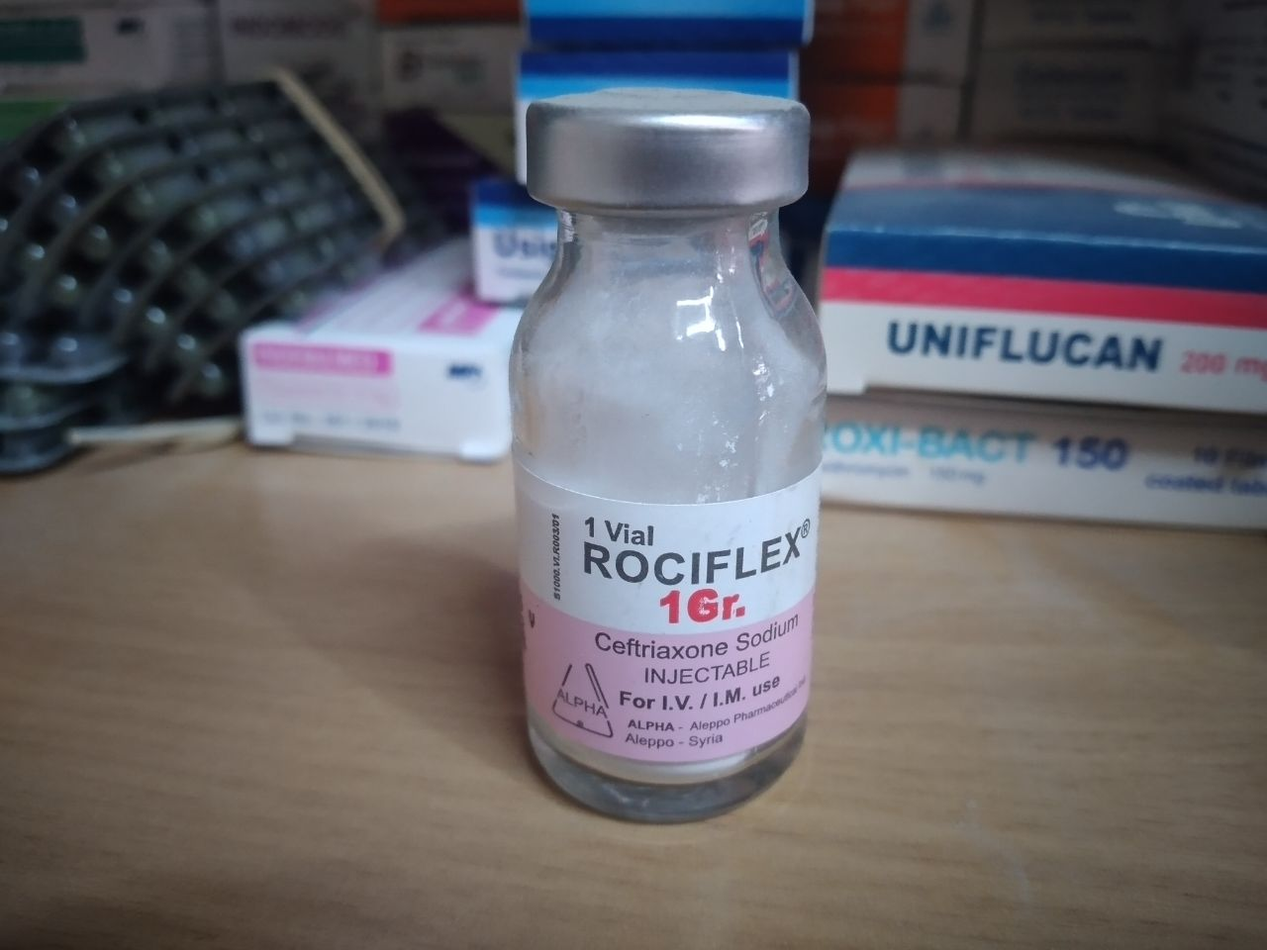Medicine: (490, 72, 844, 839), (819, 344, 1267, 569), (831, 208, 1267, 423), (223, 307, 510, 473)
